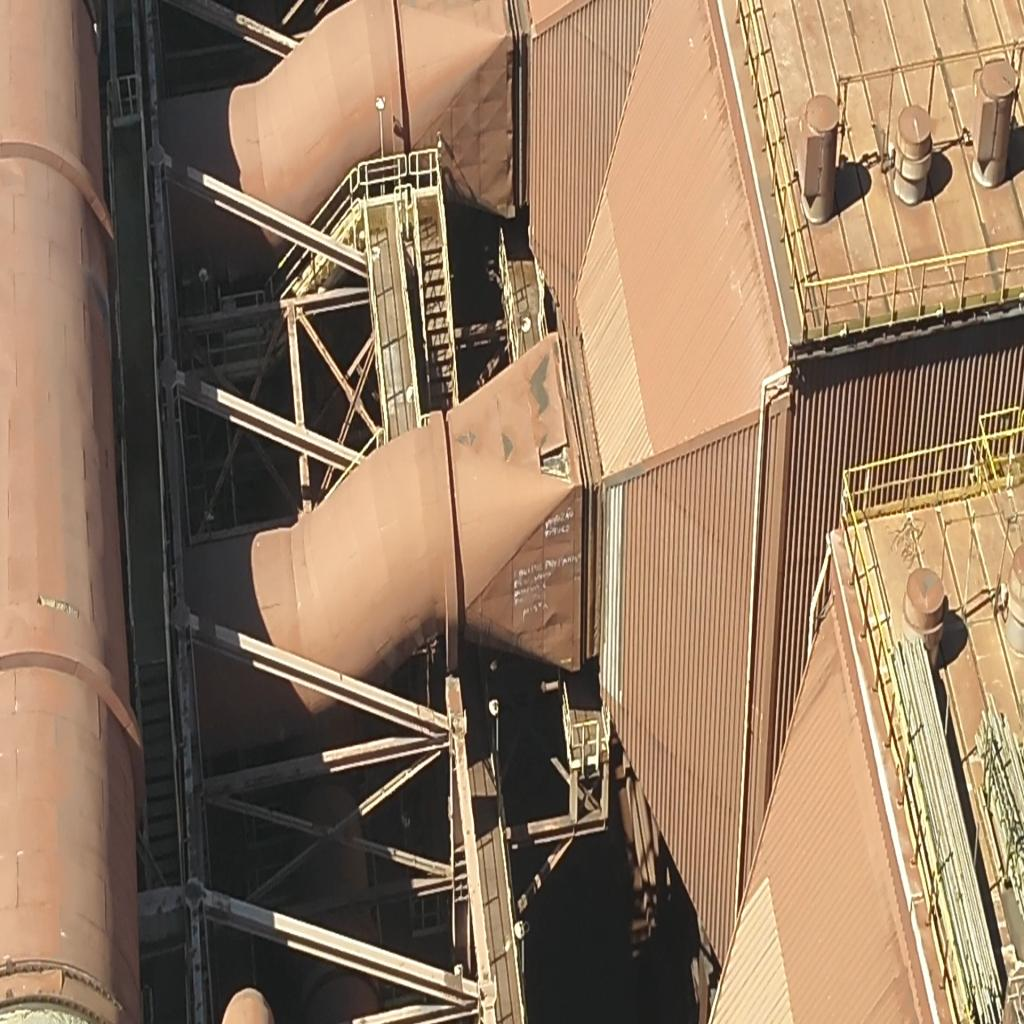Failures: (529, 435, 571, 488)
